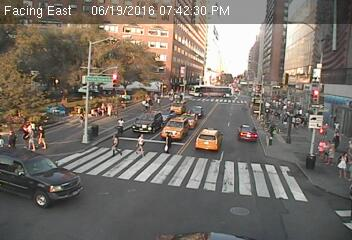neg: (280, 69, 297, 91), (254, 76, 270, 98), (112, 114, 128, 135), (117, 77, 133, 98), (90, 80, 103, 98)
pos: (131, 133, 150, 158), (105, 132, 123, 156), (335, 149, 351, 176), (33, 124, 47, 144), (6, 130, 20, 150), (315, 137, 329, 156), (23, 126, 36, 143), (325, 140, 337, 156), (331, 120, 342, 134)
